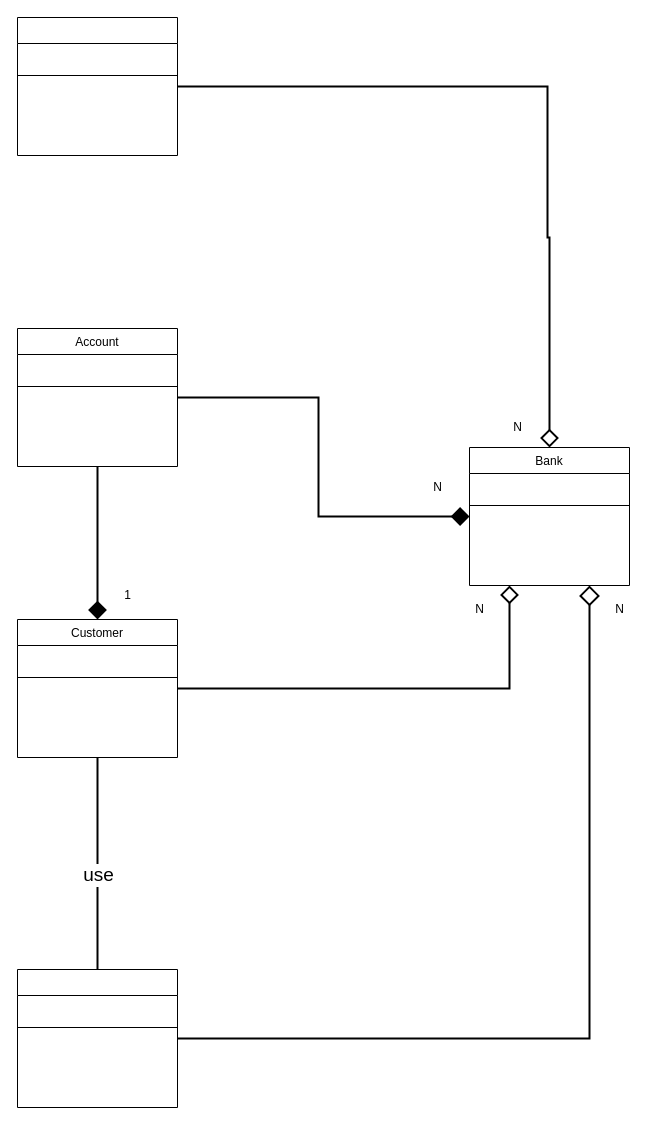
Image size: 647x1125. Some labels were removed from this diagram. Each missing label, with the centre of its shape:
"ATM" goes at (x=97, y=1038).
"Employe" goes at (x=97, y=86).
